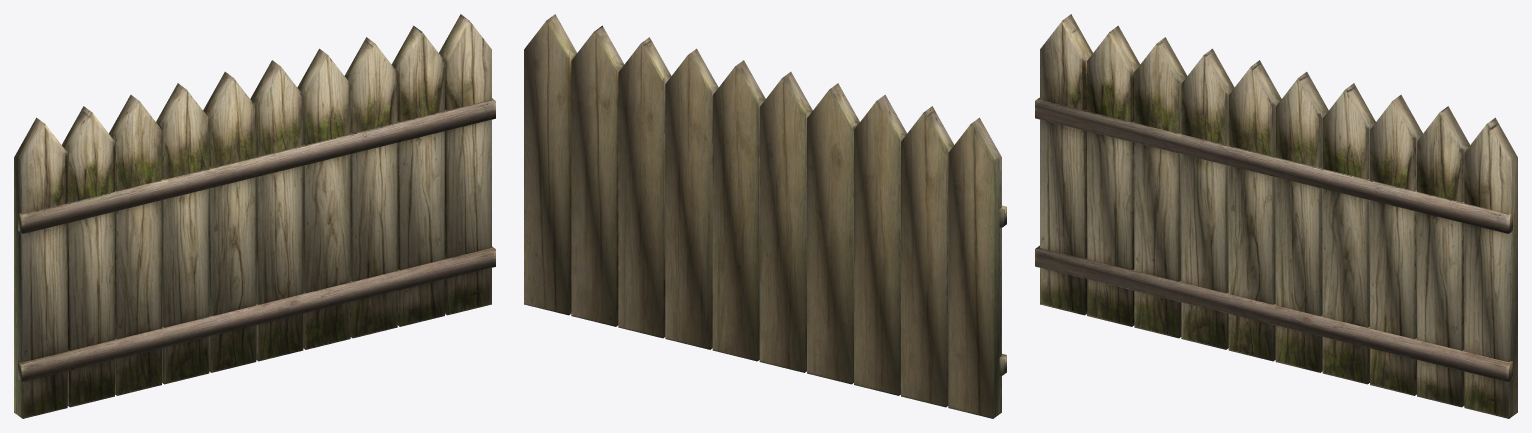
File: Fence.fbx
3 views of the same model, side by side, from view 1: azimuth 30°, elevation 25°; view 2: azimuth 150°, elevation 25°; view 3: azimuth 330°, elevation 25° (orthographic).
Parts seen in each view (by area): view 1: Cube.001; view 2: Cube.001; view 3: Cube.001.
Boxes of the visible parts, x1=… form: Cube.001: x1=14, y1=14, x2=495, y2=418; Cube.001: x1=524, y1=14, x2=1006, y2=418; Cube.001: x1=1035, y1=14, x2=1517, y2=418.
Bounding box in the file's own units: 200 × 117 × 8.15.
Materials: 1 (1 with a texture image).
